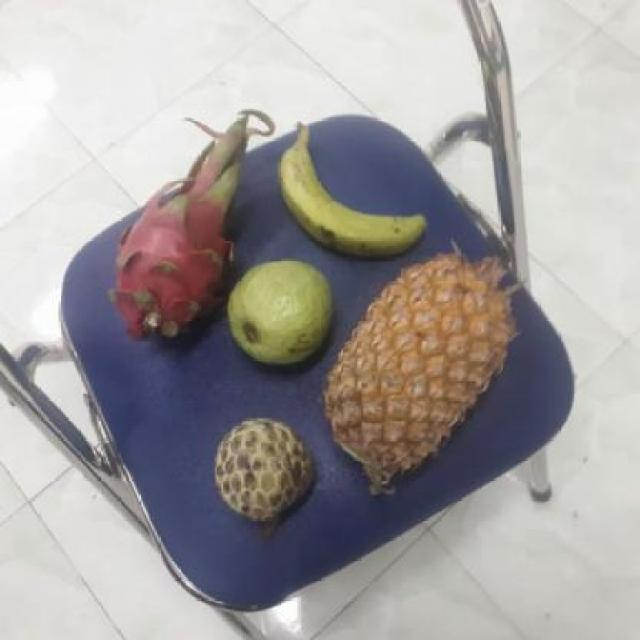banana: (283, 134, 431, 258)
dragon fruit: (117, 170, 251, 336)
guava: (226, 261, 340, 370)
pineapple: (323, 256, 522, 487)
sugar apple: (215, 418, 323, 524)
